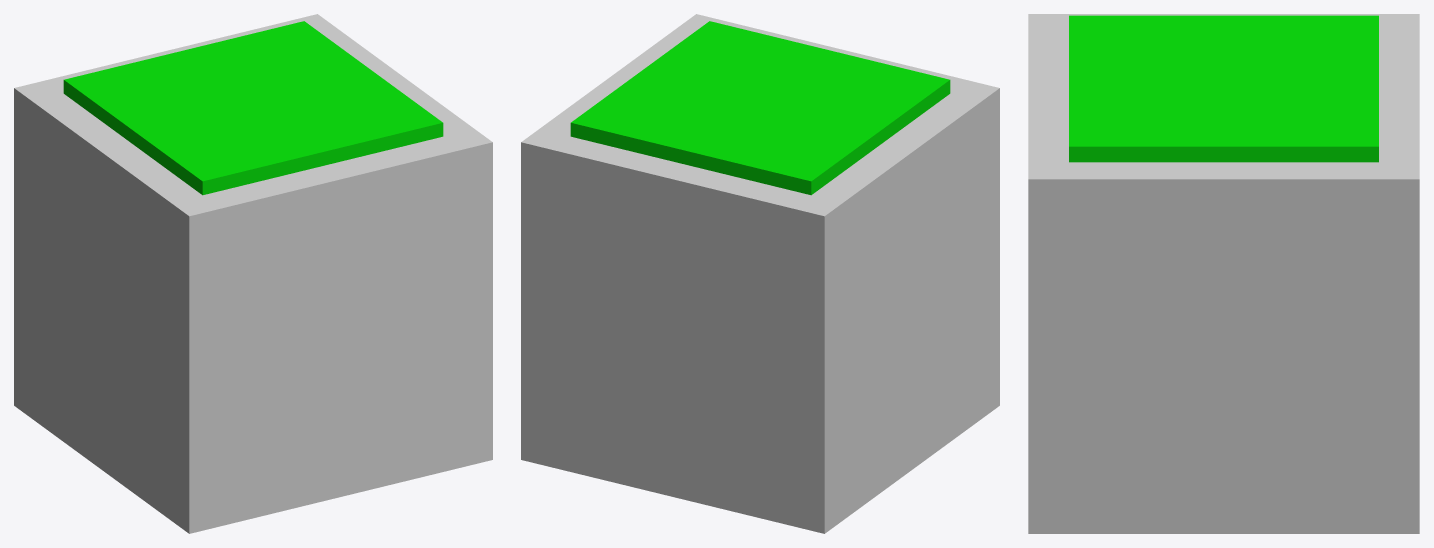
The model's file is TileNormal_0sides.fbx.
The picture shows the model from 3 angles, left to right: view 1: azimuth 30°, elevation 25°; view 2: azimuth 150°, elevation 25°; view 3: azimuth 270°, elevation 25°; orthographic projection. The views are drawn at different scales.
Visible parts, largest first — view 1: TileNormal_0sides; view 2: TileNormal_0sides; view 3: TileNormal_0sides.
Boxes of the visible parts, left/top/right/bottom form: TileNormal_0sides: left=14, top=14, right=492, bottom=533; TileNormal_0sides: left=521, top=14, right=999, bottom=533; TileNormal_0sides: left=1028, top=14, right=1419, bottom=533.
Size of the model in its own units: 100 by 104 by 100.
